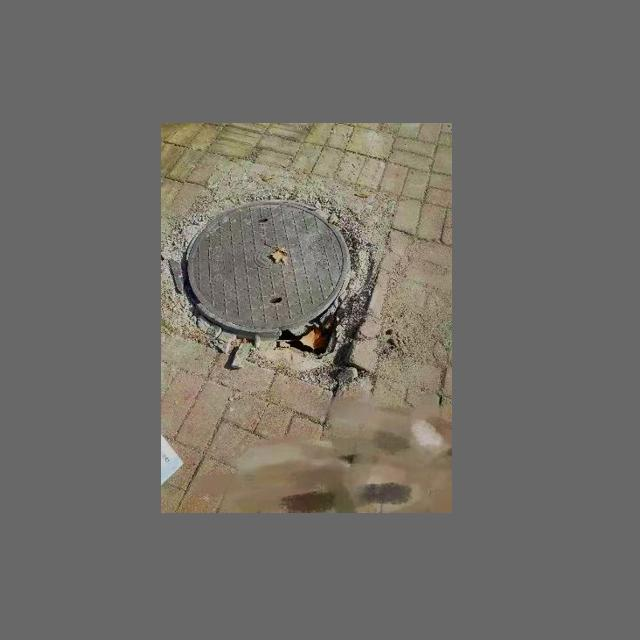circle: (161, 190, 380, 352)
